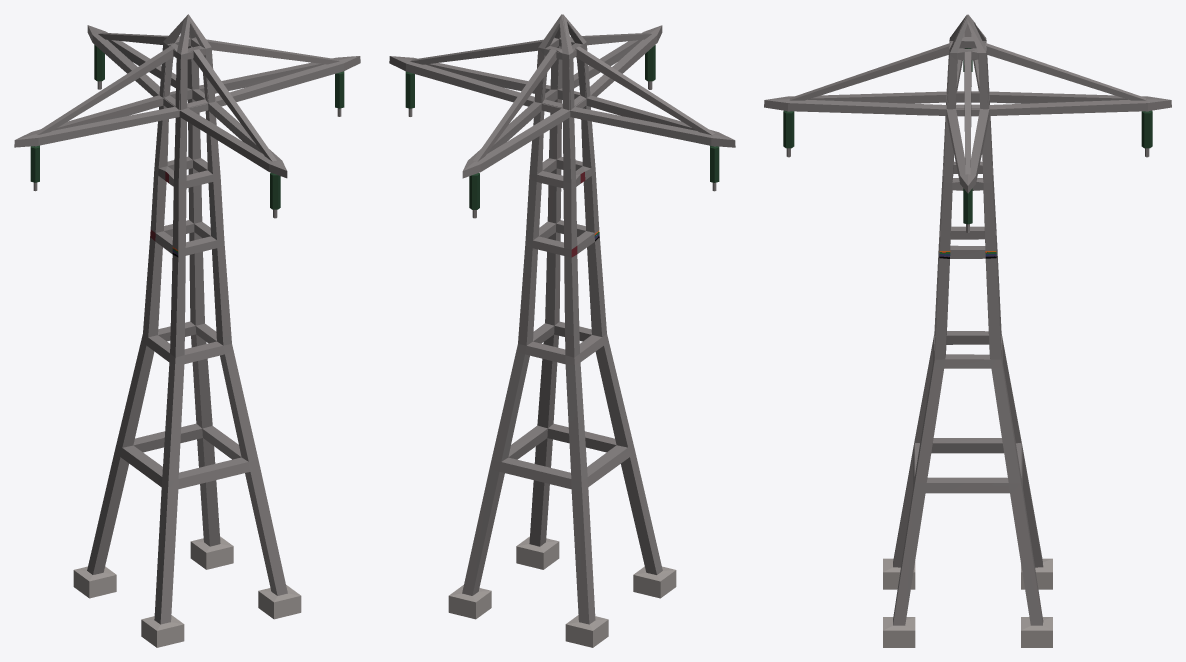
File: power_line_pole_modified.glb
3 views of the same model, side by side, from view 1: azimuth 30°, elevation 25°; view 2: azimuth 150°, elevation 25°; view 3: azimuth 270°, elevation 25° (orthographic). The views are drawn at different scales.
Visible parts, largest first — view 1: power_line_pole; view 2: power_line_pole; view 3: power_line_pole.
Part boxes in pixels (x1,y1,x2,y2): power_line_pole: (14, 14, 360, 647); power_line_pole: (389, 14, 735, 647); power_line_pole: (764, 14, 1171, 647).
Bounding box in the file's own units: 8.88 × 14.35 × 8.88.
1 material, 1 textured.
